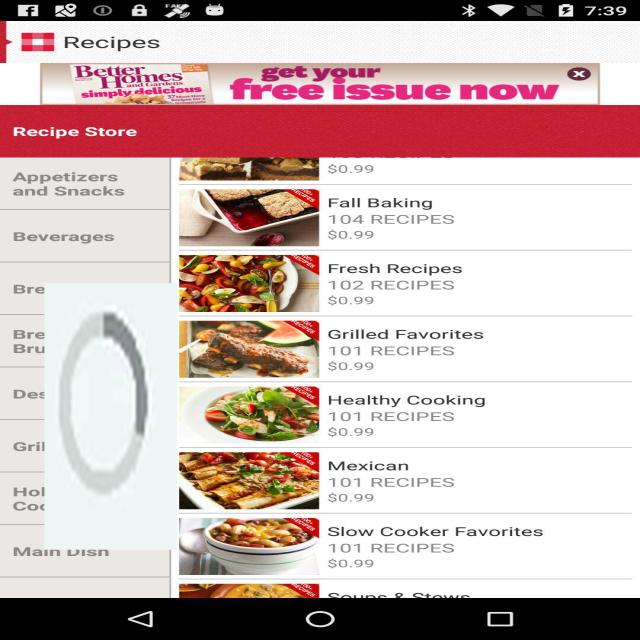misdirection: (45, 283, 177, 550)
